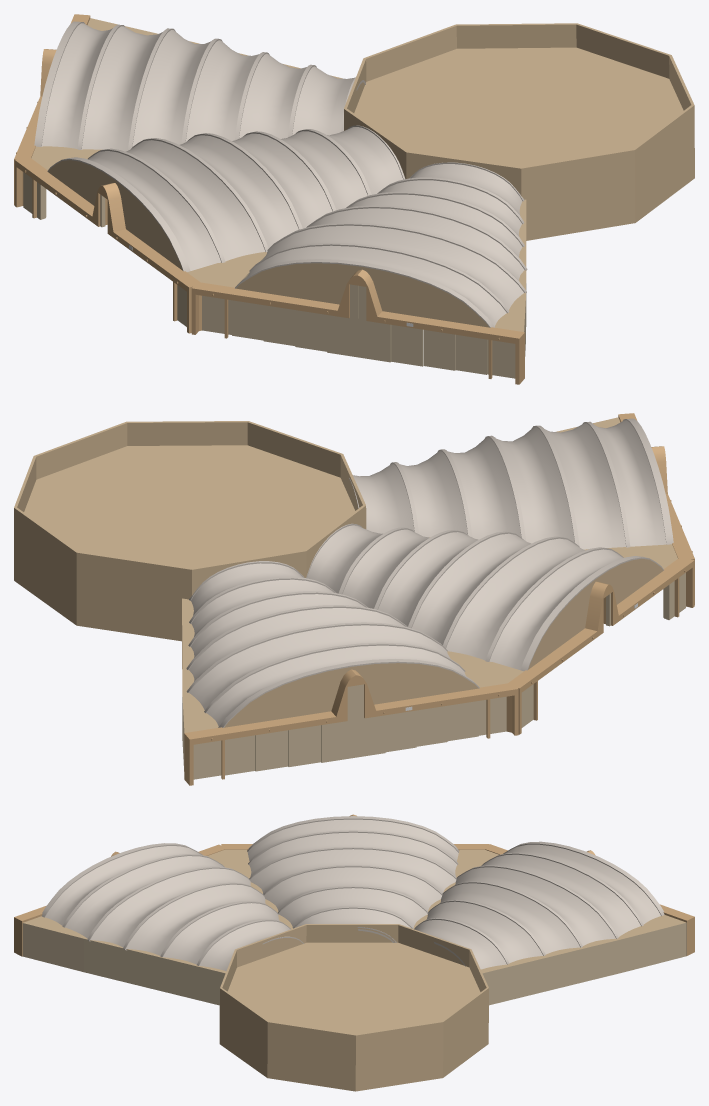
The model's file is oerk-hangar1.gltf.
3 renders of one model, top to bottom at view 1: azimuth 30°, elevation 25°; view 2: azimuth 150°, elevation 25°; view 3: azimuth 270°, elevation 25°, orthographic. The views are drawn at different scales.
Parts seen in each view (by area): view 1: Cylinder.005, Cylinder, Cylinder.006, Cylinder.001, Cube.029, Cube.028, Cube, Cube.053, Cube.056, Cube.014; view 2: Cylinder.005, Cylinder.001, Cylinder, Cylinder.006, Cube.015, Cube.014, Cube, Cube.053, Cube.056, Cube.028; view 3: Cylinder.005, Cylinder.006, Cylinder.001, Cylinder, Cube.056, Cube.053, Cube.028, Cube.014.
Part boxes in pixels (<box>): Cylinder.005: <box>344,23,694,240</box>; Cylinder: <box>47,125,405,271</box>; Cylinder.006: <box>235,162,527,327</box>; Cylinder.001: <box>34,21,355,151</box>; Cube.029: <box>202,284,515,378</box>; Cube.028: <box>191,269,524,384</box>; Cube: <box>14,156,201,333</box>; Cube.053: <box>31,146,266,287</box>; Cube.056: <box>87,18,526,356</box>; Cube.014: <box>14,14,90,205</box>; Cylinder.005: <box>14,421,366,641</box>; Cylinder.001: <box>186,561,479,727</box>; Cylinder: <box>306,523,663,671</box>; Cylinder.006: <box>349,418,673,549</box>; Cube.015: <box>193,684,506,779</box>; Cube.014: <box>184,669,518,785</box>; Cube: <box>506,558,694,734</box>; Cube.053: <box>429,537,677,687</box>; Cube.056: <box>182,417,620,771</box>; Cube.028: <box>618,413,694,604</box>; Cylinder.005: <box>219,924,488,1091</box>; Cylinder.006: <box>42,843,303,971</box>; Cylinder.001: <box>414,841,664,969</box>; Cylinder: <box>247,816,458,942</box>; Cube.056: <box>22,915,686,1005</box>; Cube.053: <box>207,849,498,928</box>; Cube.028: <box>14,844,226,956</box>; Cube.014: <box>483,844,694,955</box>.
Size of the model in its own units: 178 by 26.42 by 239.
